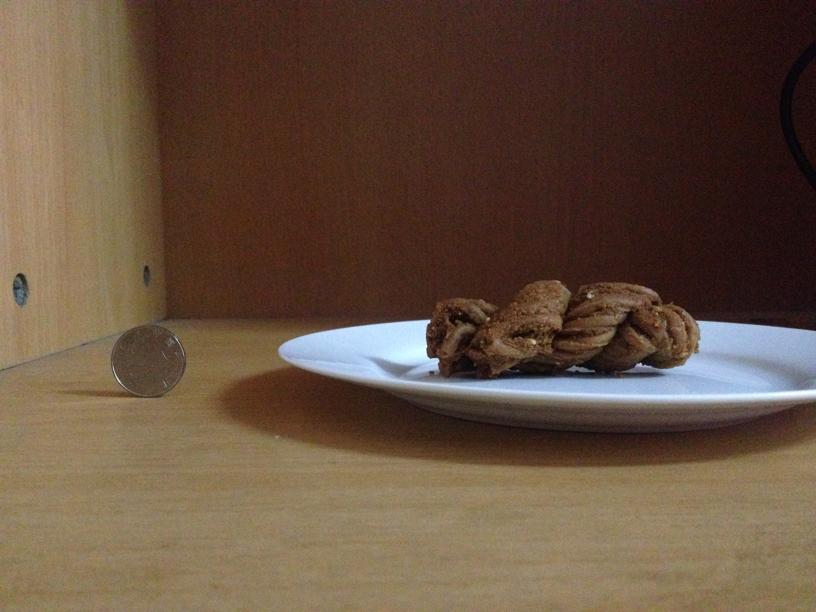coin: (113, 323, 185, 395)
fired_dough_twist: (425, 283, 698, 379)
